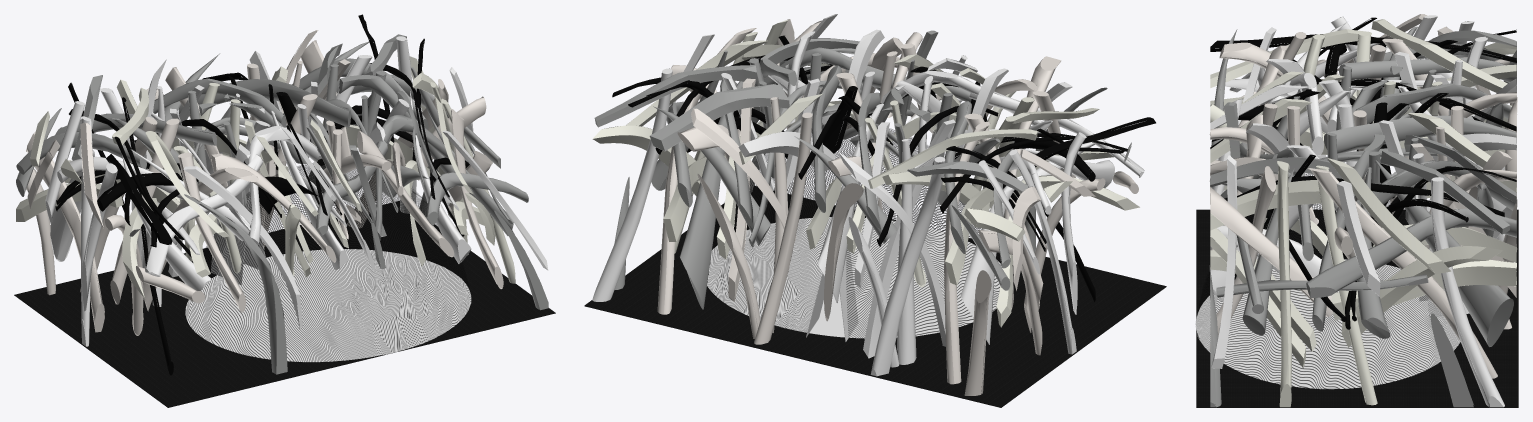
3 renders of one model, left to right at view 1: azimuth 30°, elevation 25°; view 2: azimuth 150°, elevation 25°; view 3: azimuth 270°, elevation 25°, orthographic. The views are drawn at different scales.
Parts seen in each view (by area): view 1: Group, Box, MIKADO 1; view 2: Group, Box, MIKADO 1; view 3: Group, Box, MIKADO 1.
Boxes of the visible parts, left/top/right/bottom form: Group: left=16, top=14, right=548, bottom=375; Box: left=14, top=200, right=555, bottom=407; MIKADO 1: left=185, top=163, right=471, bottom=362; Group: left=592, top=14, right=1155, bottom=395; Box: left=584, top=185, right=1166, bottom=407; MIKADO 1: left=707, top=123, right=1000, bottom=338; Group: left=1196, top=14, right=1517, bottom=407; Box: left=1196, top=209, right=1518, bottom=407; MIKADO 1: left=1196, top=173, right=1459, bottom=389.
Bounding box in the file's own units: 91.77 × 45.3 × 63.32.
7 materials, 2 textured.
